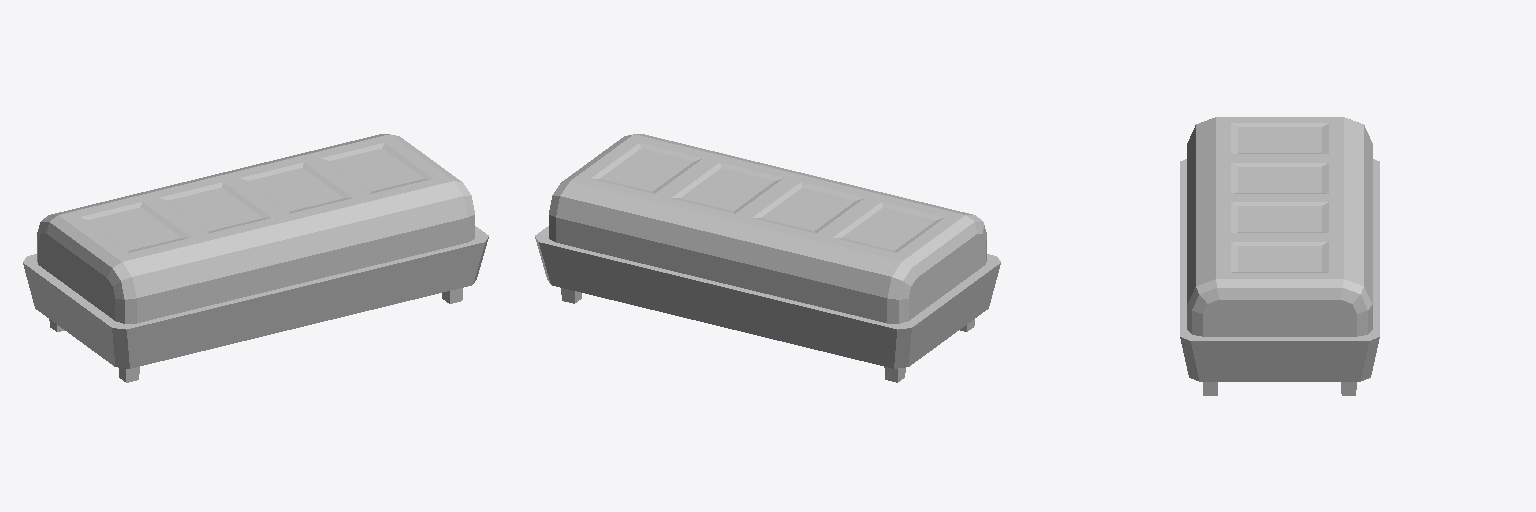
File: Sofa_4.obj
3 renders of one model, left to right at view 1: azimuth 30°, elevation 25°; view 2: azimuth 150°, elevation 25°; view 3: azimuth 270°, elevation 25°, orthographic.
Parts seen in each view (by area): view 1: Sofa_4; view 2: Sofa_4; view 3: Sofa_4.
Boxes of the visible parts, x1=… form: Sofa_4: x1=23, y1=134, x2=488, y2=382; Sofa_4: x1=535, y1=134, x2=1000, y2=382; Sofa_4: x1=1180, y1=117, x2=1379, y2=395.
Size of the model in its own units: 1.63 by 0.4793 by 0.75.